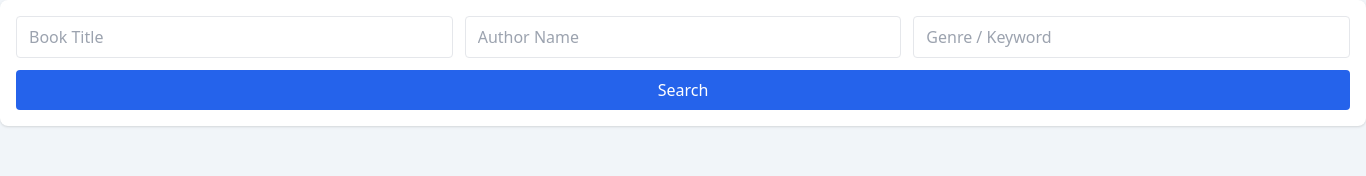
Test: shows validation error when submitting an empty form
This screenshot has width=1366, height=176.
Click the button "Search": [683, 90] box [16,70,1350,110]
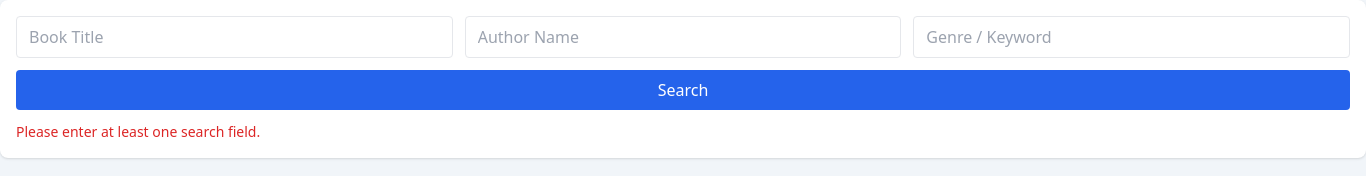
Expected: the message reads "Please enter at least one search field.", [16,122,260,141]
